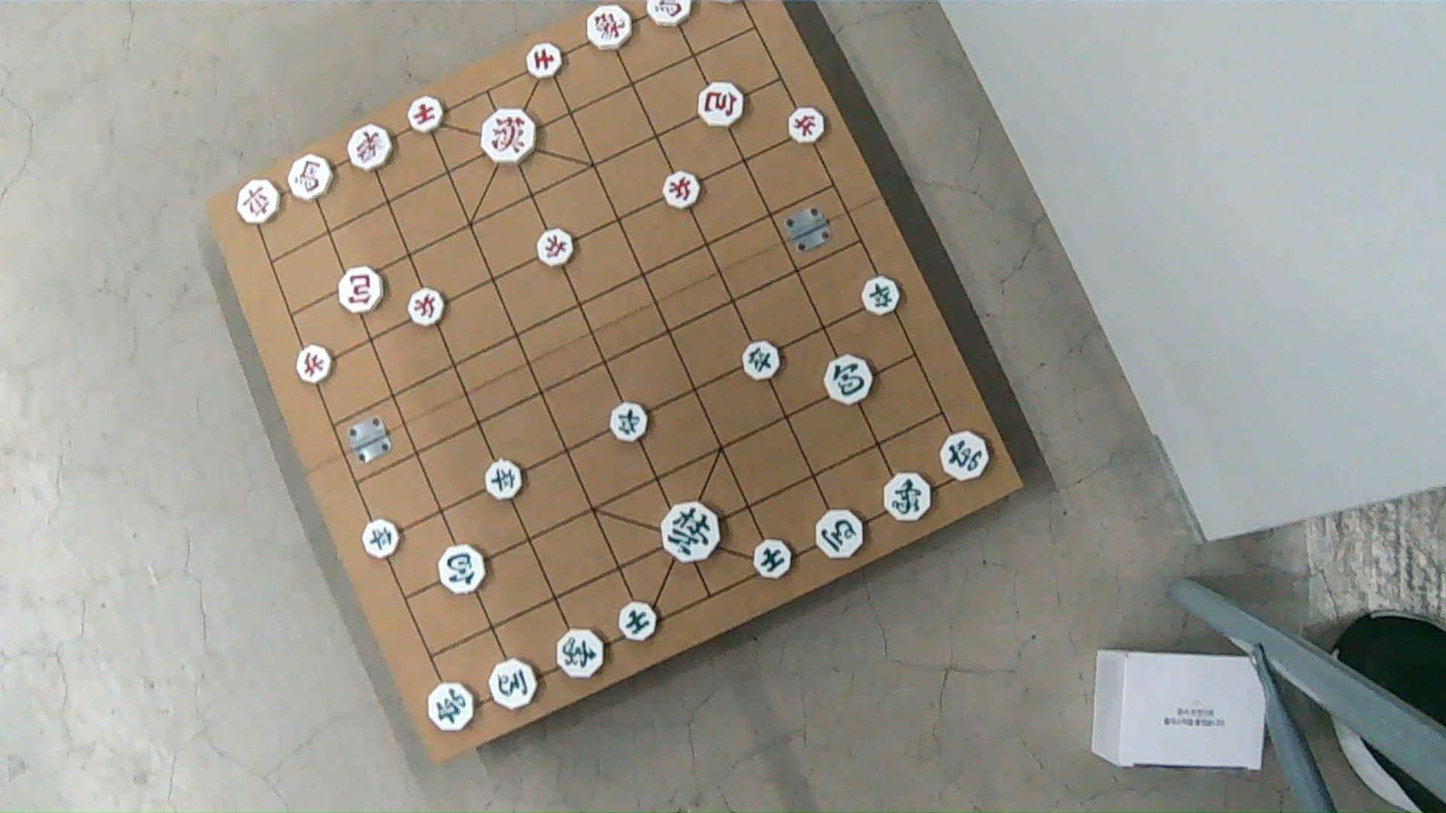cha_green: (424, 681, 475, 732), (939, 431, 989, 480)
cha_red: (239, 181, 282, 224)
jol_green: (358, 519, 399, 559), (485, 458, 524, 499), (612, 404, 651, 443), (862, 277, 900, 317), (746, 341, 785, 379)
jol_red: (662, 172, 700, 209), (535, 230, 573, 267), (297, 345, 335, 382), (408, 288, 445, 325), (789, 108, 826, 143)
ma_green: (489, 660, 538, 710), (818, 511, 866, 559)
ma_red: (289, 154, 335, 199)
po_green: (437, 546, 485, 595), (827, 356, 875, 404)
po_red: (340, 266, 386, 313), (698, 84, 744, 128)
sa_green: (757, 539, 796, 578), (621, 601, 659, 641)
sa_red: (406, 96, 447, 133), (525, 44, 561, 79)
sang_green: (557, 628, 606, 678), (883, 471, 931, 520)
sang_red: (590, 4, 635, 49), (346, 124, 390, 170)
wang_green: (661, 501, 721, 562)
wang_red: (480, 108, 536, 163)
